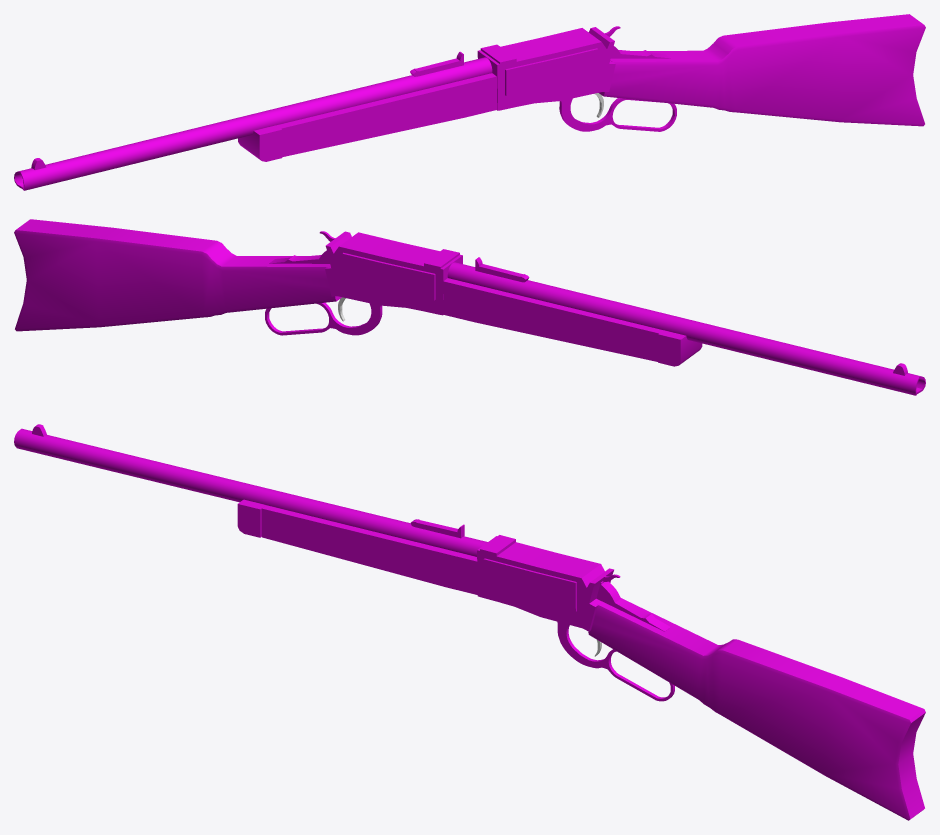
File: rifle 1.fbx
3 renders of one model, top to bottom at view 1: azimuth 30°, elevation 25°; view 2: azimuth 150°, elevation 25°; view 3: azimuth 330°, elevation 25°, orthographic.
Parts seen in each view (by area): view 1: Cube; view 2: Cube; view 3: Cube.
Part boxes in pixels (x1,y1,x2,y2): Cube: (14, 14, 925, 190); Cube: (14, 219, 925, 395); Cube: (14, 424, 925, 820).
Size of the model in its own units: 2475 by 469 by 105.
